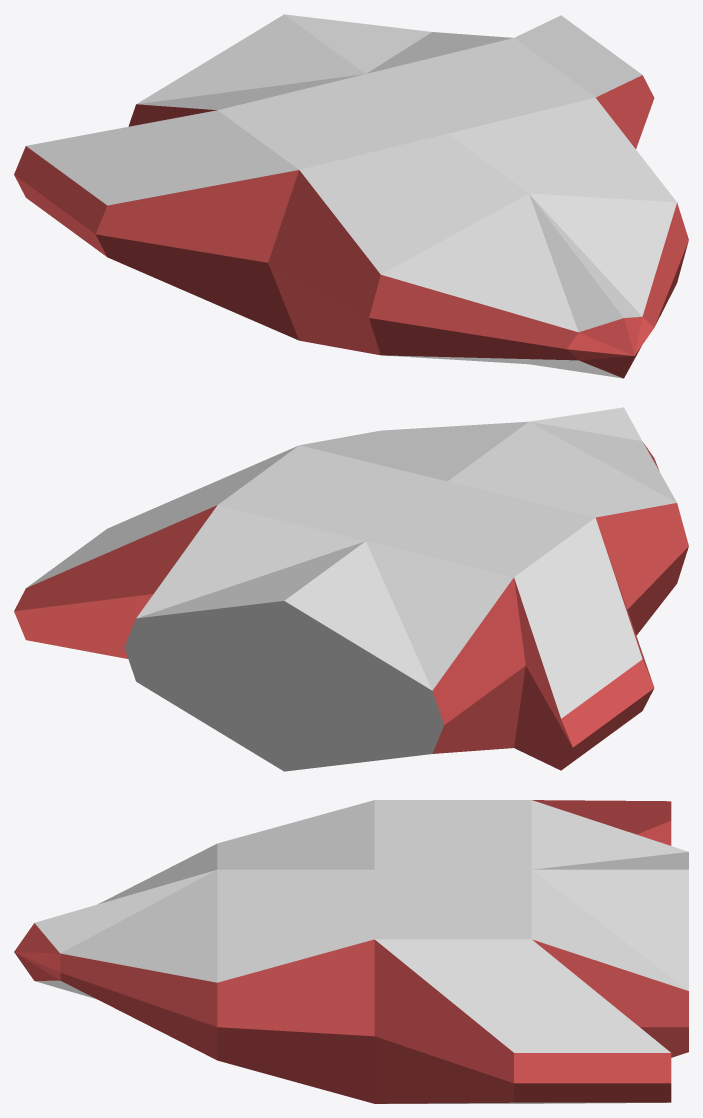
File: Human_autopilot.glb
The picture shows the model from 3 angles, top to bottom: view 1: azimuth 30°, elevation 25°; view 2: azimuth 150°, elevation 25°; view 3: azimuth 270°, elevation 25°; orthographic projection. The views are drawn at different scales.
Visible parts, largest first — view 1: Cube; view 2: Cube; view 3: Cube.
Boxes of the visible parts, x1,y1,x2,y2 form: Cube: (14,14,688,378); Cube: (14,407,688,771); Cube: (14,800,688,1103).
Bounding box in the file's own units: 2.2 × 0.6437 × 2.39.
